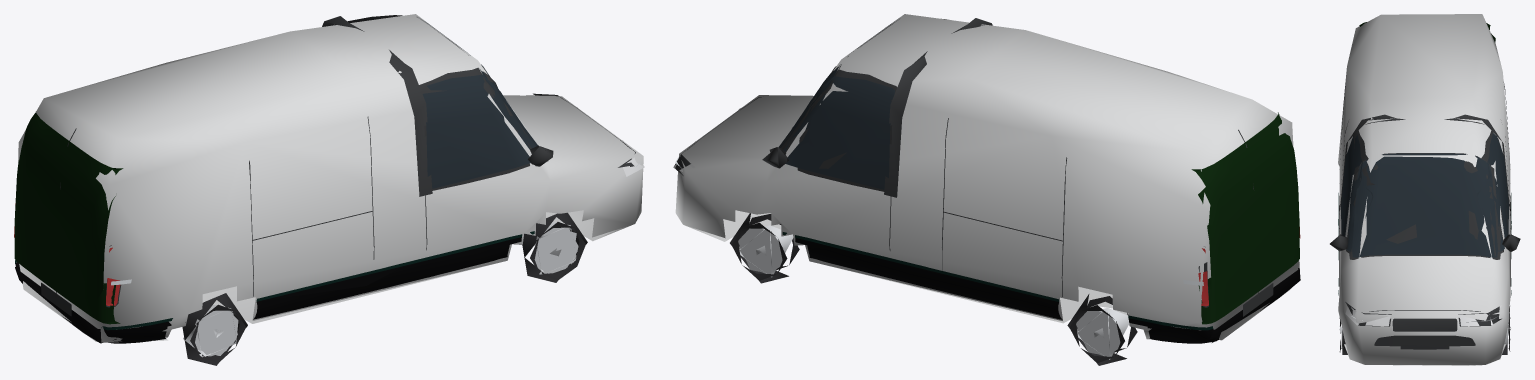
File: livr_expr_ufar.glb
The picture shows the model from 3 angles, left to right: view 1: azimuth 30°, elevation 25°; view 2: azimuth 150°, elevation 25°; view 3: azimuth 270°, elevation 25°; orthographic projection. The views are drawn at different scales.
Visible parts, largest first — view 1: Body, LeRearGreen, Glass-1, LeSill-1, WheelFR, WheelRR, Bpillar-1, LeTeal-1, WinFrame-1, LeRearSill; view 2: Body, LeRearGreen, Glass1, LeSill1, WheelRL, WheelFL, Bpillar1, LeTeal1, WinFrame1, LeRearSill; view 3: Body, Windshield, Glass-1, WsFrame, Glass1, Intake, Grille, HeadReflector, HeadBezel, WinFrame-1, WinFrame1, Bpillar1 (+4 smaller).
Part boxes in pixels (x1,y1,x2,y2): Body: (18,14,643,342); LeRearGreen: (14,113,123,324); Glass-1: (422,74,535,188); LeSill-1: (104,237,521,343); WheelFR: (522,212,587,282); WheelRR: (182,293,247,365); Bpillar-1: (389,50,432,196); LeTeal-1: (101,231,534,330); WinFrame-1: (419,67,531,190); LeRearSill: (15,265,116,343); Body: (675,14,1299,340); LeRearGreen: (1191,112,1299,324); Glass1: (783,76,894,189); LeSill1: (795,238,1219,343); WheelRL: (1067,294,1137,365); WheelFL: (730,213,799,283); Bpillar1: (884,51,927,197); LeTeal1: (782,232,1213,330); WinFrame1: (782,69,897,191); LeRearSill: (1208,268,1300,342); Body: (1338,14,1510,365); Windshield: (1352,153,1497,257); Glass-1: (1341,135,1373,251); WsFrame: (1349,153,1500,259); Glass1: (1476,133,1508,251); Intake: (1374,335,1475,346); Grille: (1392,318,1457,331); HeadReflector: (1345,305,1501,326); HeadBezel: (1345,302,1501,326); WinFrame-1: (1341,131,1374,253); WinFrame1: (1481,131,1508,253); Bpillar1: (1444,114,1509,209).
Size of the model in its own units: 5.62 by 2.31 by 2.14.
